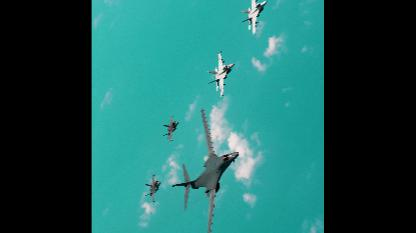AV8B: (172, 107, 240, 232)
F15: (207, 50, 234, 96), (241, 0, 268, 34)
F22: (144, 174, 160, 202), (163, 114, 178, 140)
